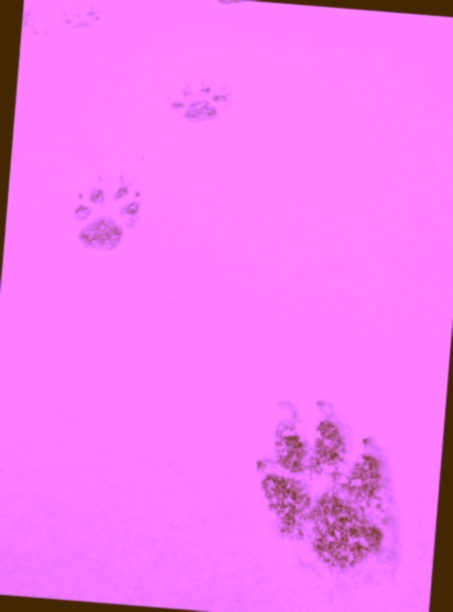loup: (257, 377, 421, 571), (44, 171, 140, 269), (133, 62, 224, 130)
